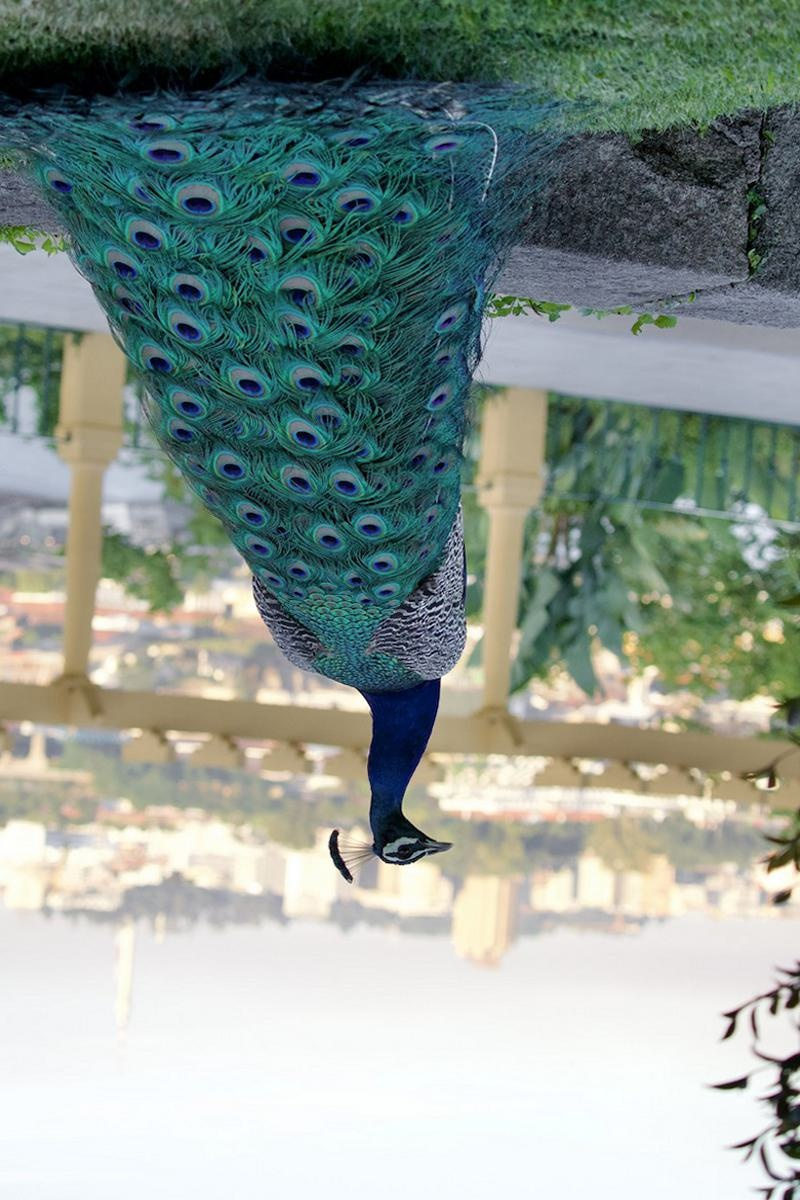peacock: (61, 51, 478, 908)
